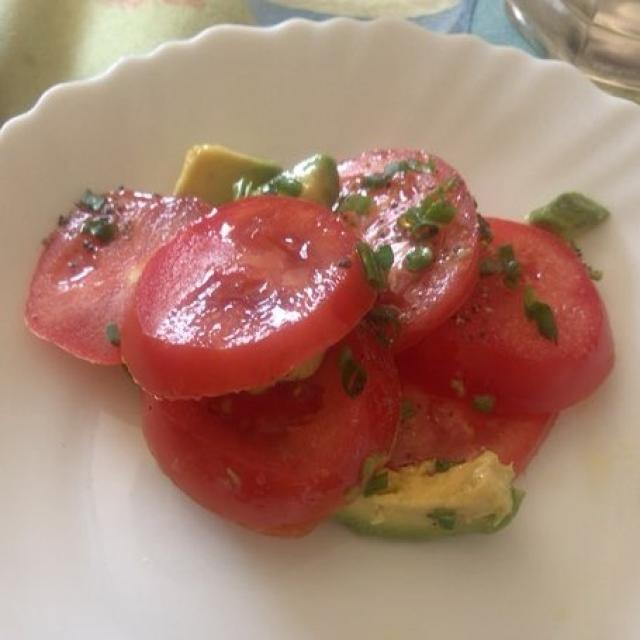avocado: (186, 144, 522, 527)
tomato: (39, 146, 607, 531)
